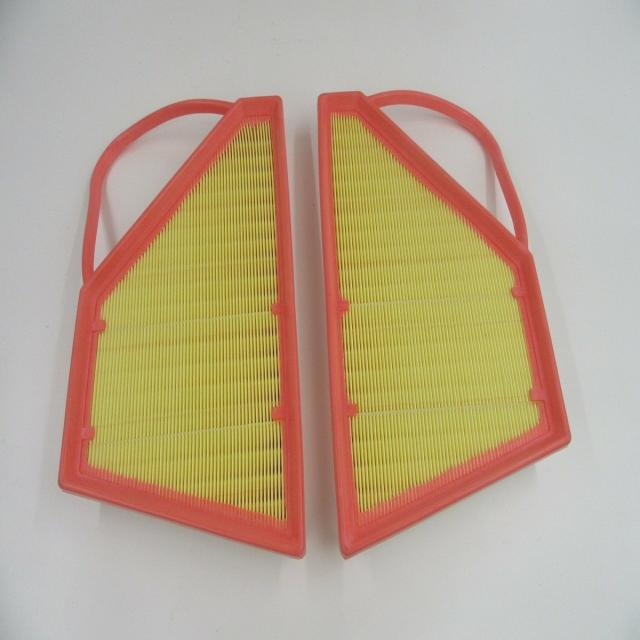air_filter: (311, 63, 578, 567), (57, 67, 295, 578)
